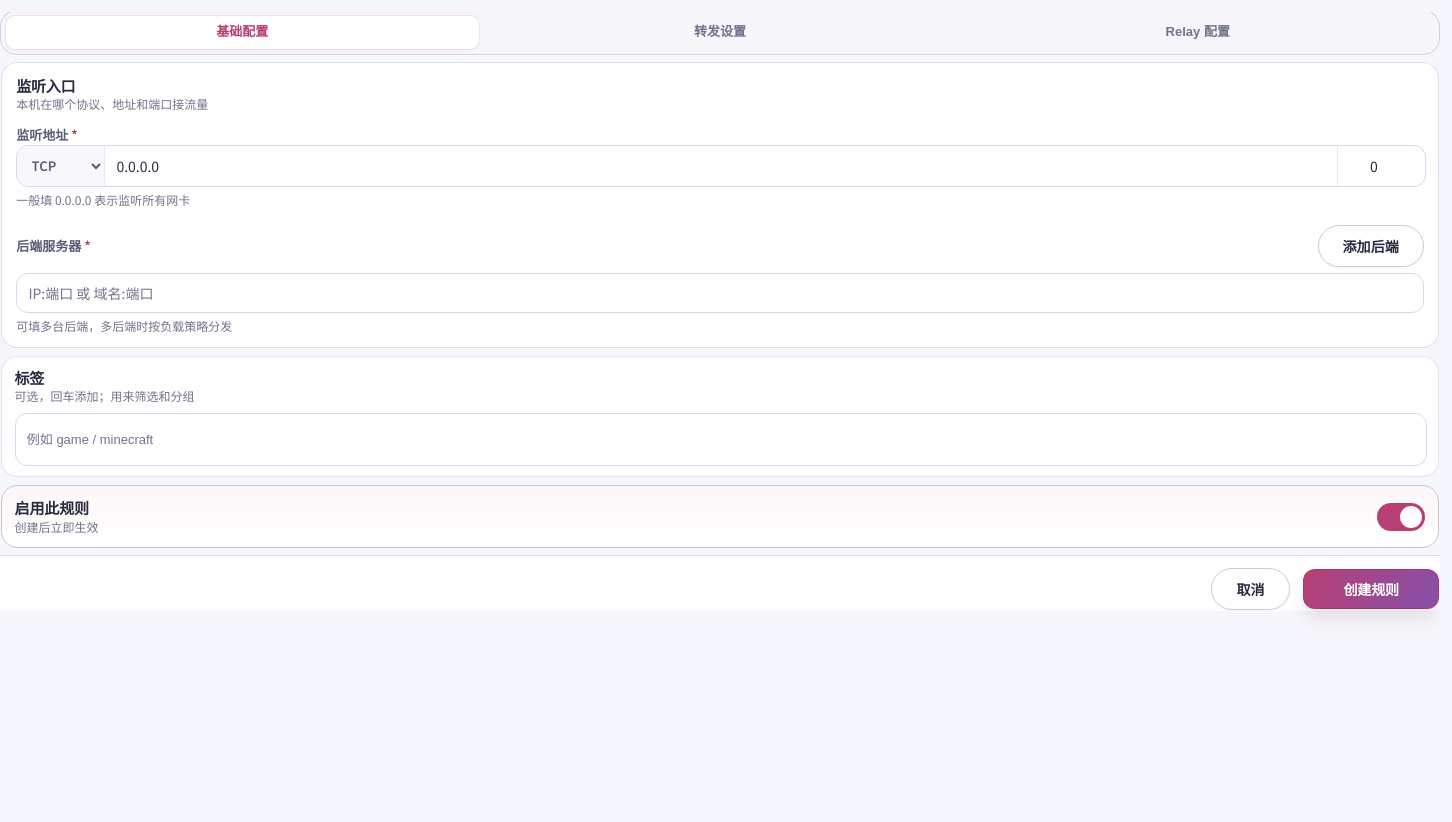
Test: L4RuleForm egress profile and relay path › keeps egress profile in the 转发设置 tab and removes old egress mode controls
Click the tab with class "form-tabs__btn" showing "转发设置" at (720, 33), box [483,15,957,50]
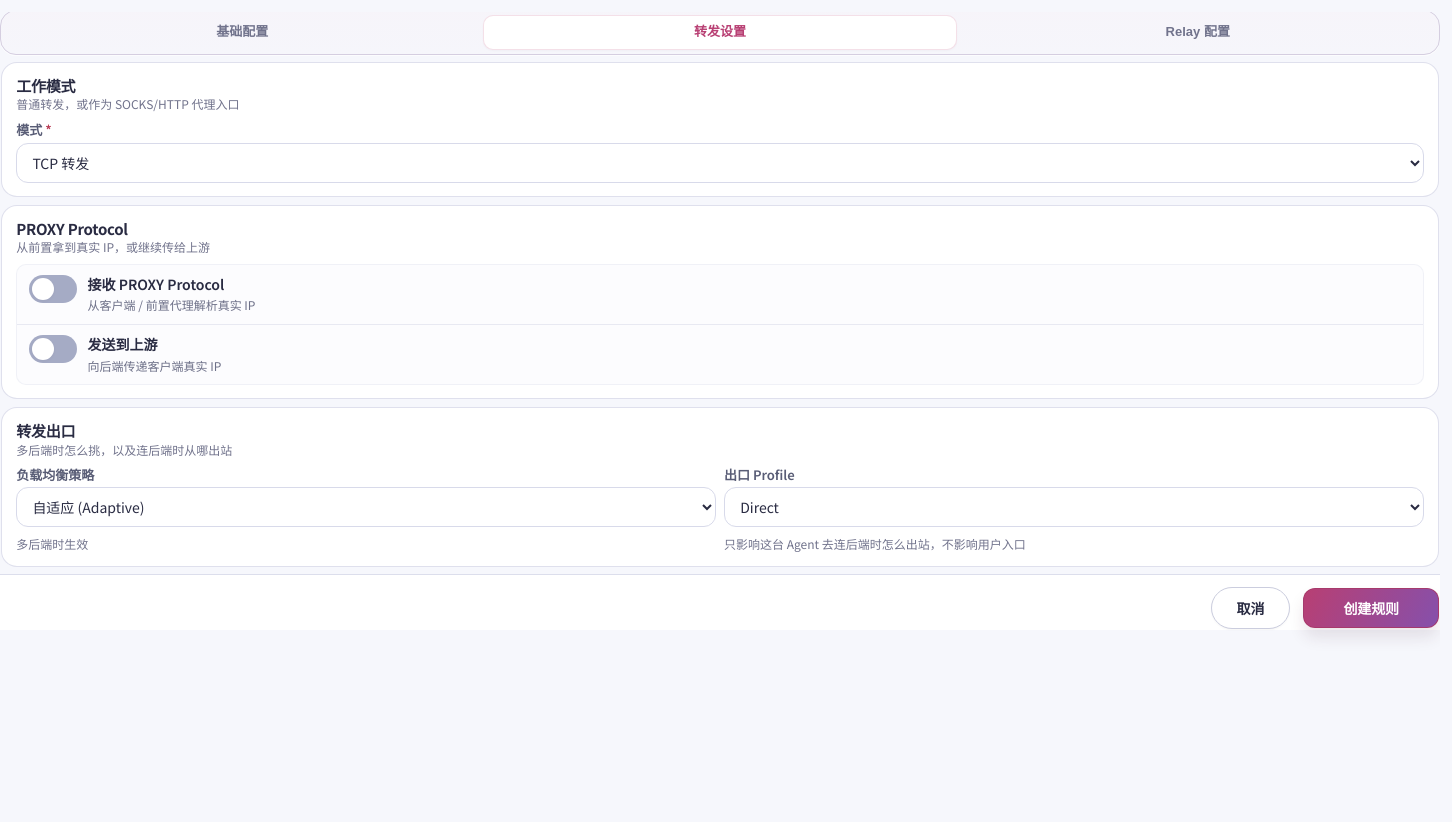
Now the dropdown named "egress-profile" below "出口 Profile" is shown, box [724,487,1424,527]
Now the text "出口 Profile" is shown, box [724,465,795,484]
